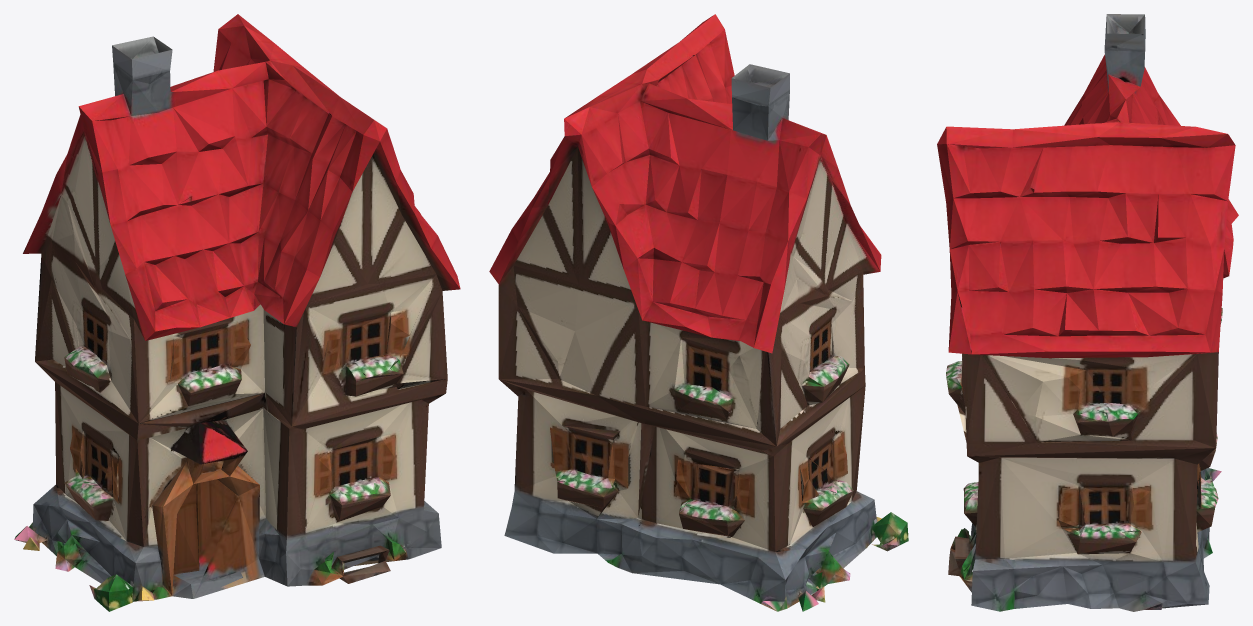
The model's file is house_terra_6_opt2000.glb.
3 views of the same model, side by side, from view 1: azimuth 30°, elevation 25°; view 2: azimuth 150°, elevation 25°; view 3: azimuth 270°, elevation 25° (orthographic). The views are drawn at different scales.
Parts seen in each view (by area): view 1: opt2000; view 2: opt2000; view 3: opt2000.
Part boxes in pixels (x1=…): opt2000: x1=14, y1=14, x2=460, y2=611; opt2000: x1=489, y1=14, x2=908, y2=611; opt2000: x1=937, y1=14, x2=1238, y2=611.
Bounding box in the file's own units: 1.33 × 1.91 × 1.08.
1 material, 1 textured.
